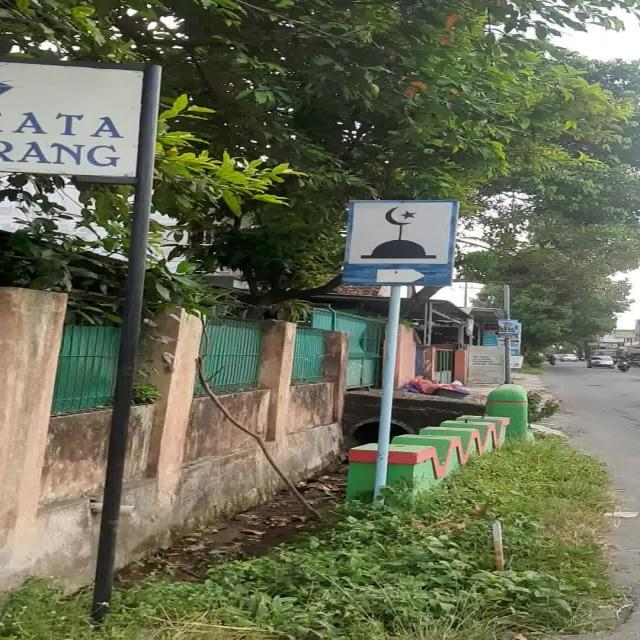Masjid: (341, 199, 459, 286)
